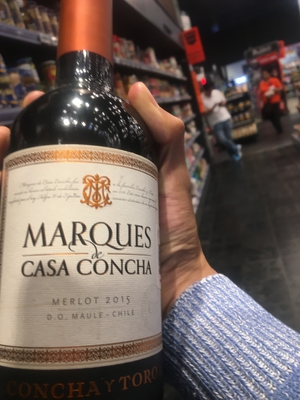marques de casa concha merlot: (5, 47, 179, 390)
